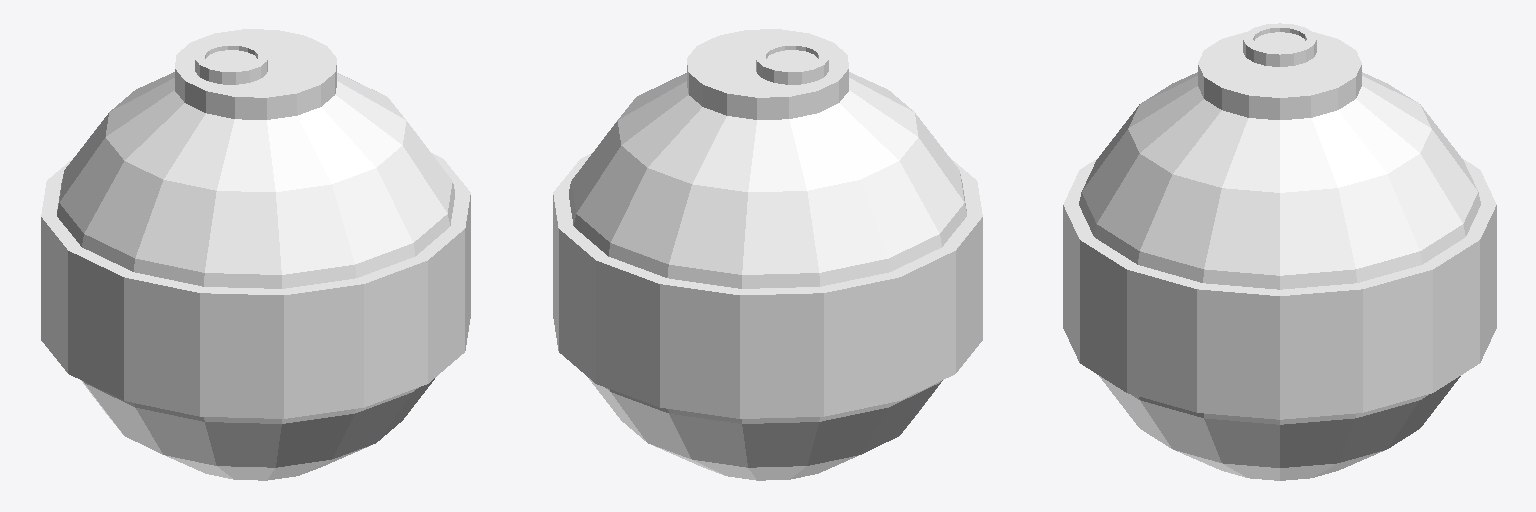
Rendered from smokebomb.obj.
3 views of the same model, side by side, from view 1: azimuth 30°, elevation 25°; view 2: azimuth 150°, elevation 25°; view 3: azimuth 270°, elevation 25° (orthographic).
Visible parts, largest first — view 1: sphere1; view 2: sphere1; view 3: sphere1.
Boxes of the visible parts, x1,y1,x2,y2 form: sphere1: [41, 29, 470, 480]; sphere1: [553, 29, 982, 480]; sphere1: [1063, 23, 1496, 480].
Bounding box in the file's own units: 2.02 × 2.11 × 2.02.